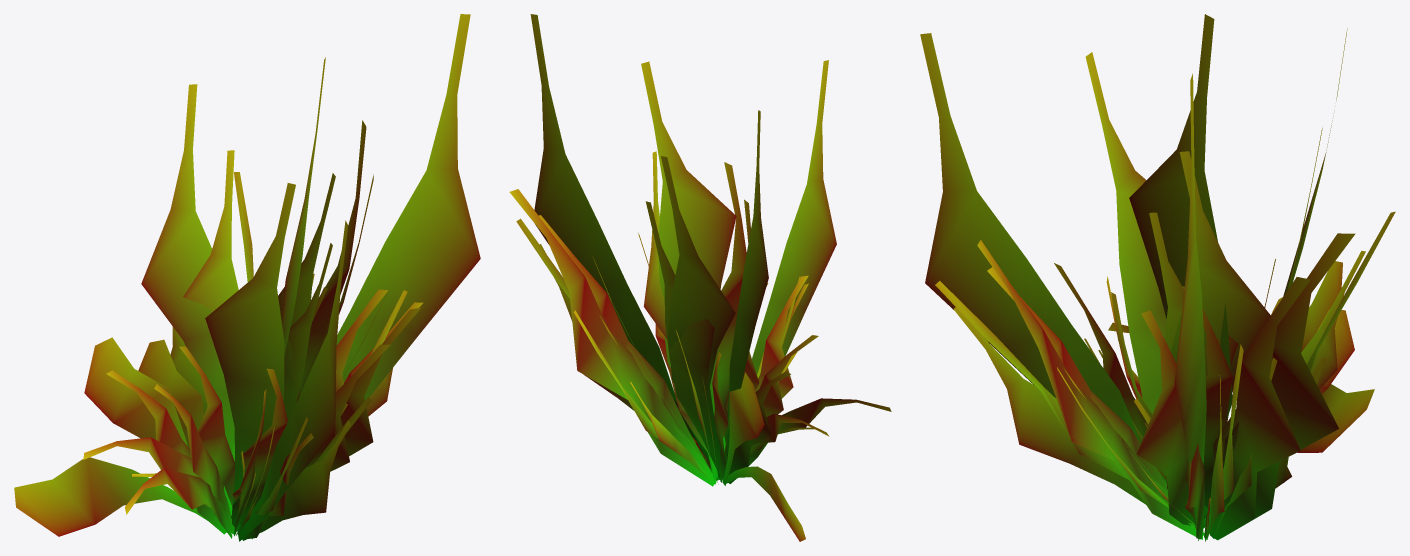
The model's file is tmjhcayia_Var8_LOD0.fbx.
The picture shows the model from 3 angles, left to right: view 1: azimuth 30°, elevation 25°; view 2: azimuth 150°, elevation 25°; view 3: azimuth 270°, elevation 25°; orthographic projection. The views are drawn at different scales.
Visible parts, largest first — view 1: Var8_LOD0; view 2: Var8_LOD0; view 3: Var8_LOD0.
Part boxes in pixels (bbox=[...]): Var8_LOD0: bbox=[14, 14, 480, 541]; Var8_LOD0: bbox=[509, 14, 891, 541]; Var8_LOD0: bbox=[920, 14, 1395, 541].
Bounding box in the file's own units: 7.17 × 8.42 × 6.11.
